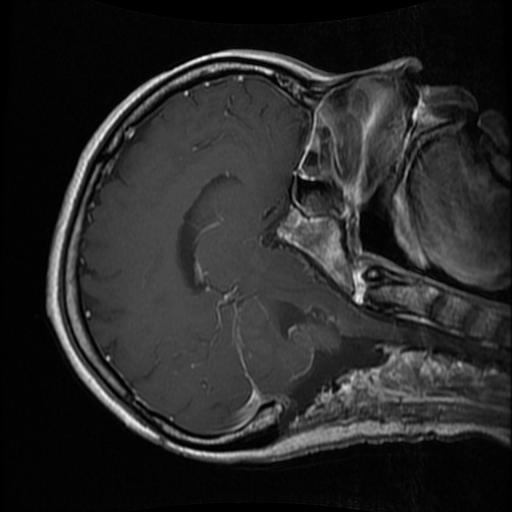glioma: (267, 297, 327, 343)
